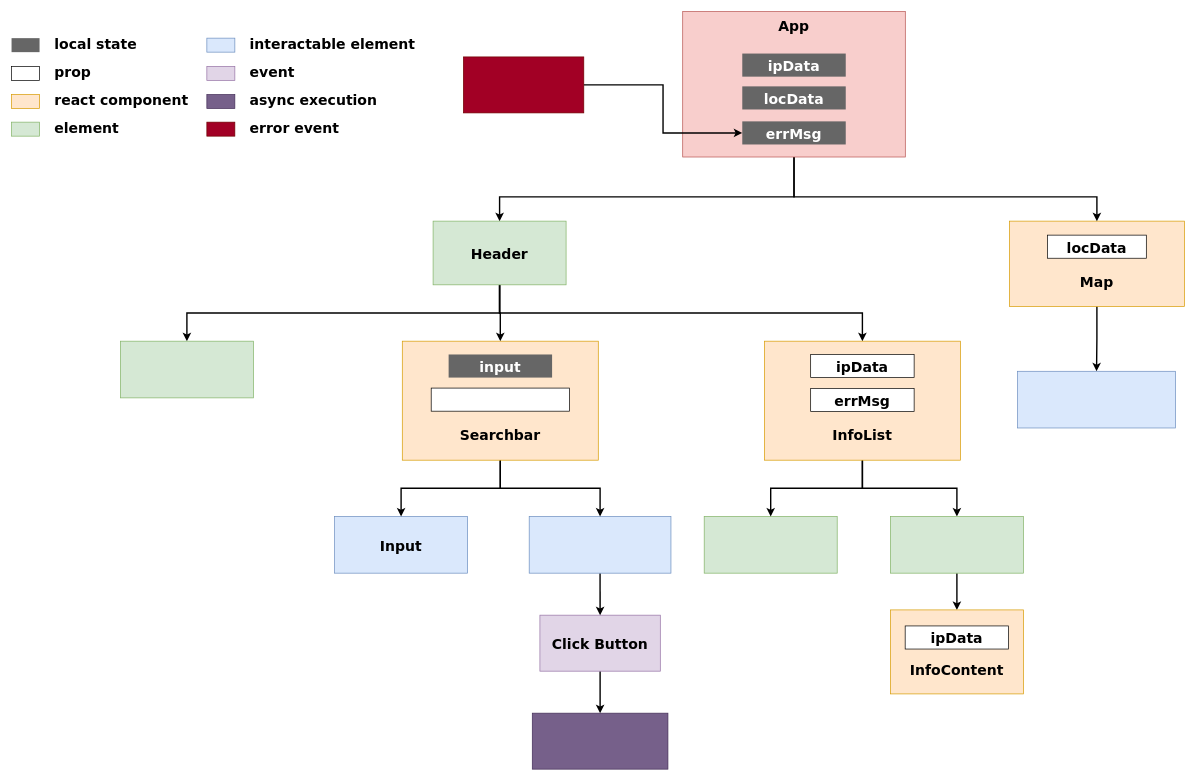
The diagram is 1196 pixels wide and 781 high, and some of its shapes have lost their labels. The shapes that lost their labels are listed below. From the top down, each one's centre as x and y in pixels, then its label:
At [523,84]: "Error Occur".
At [186,369]: "App Title".
At [499,399]: "onSubmit".
At [1096,399]: "Leaflet Map".
At [599,544]: "Submit Button".
At [770,544]: "Error Message".
At [956,544]: "Container".
At [600,740]: "Fetching Data".
